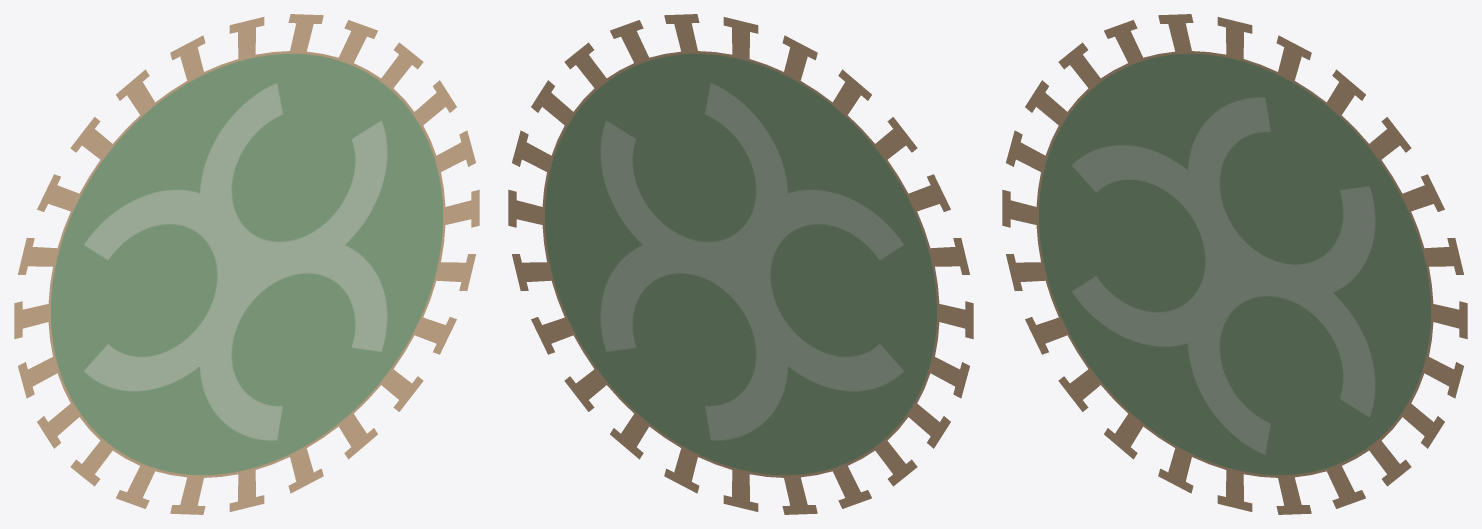
File: virus.obj
3 renders of one model, left to right at view 1: azimuth 30°, elevation 25°; view 2: azimuth 150°, elevation 25°; view 3: azimuth 330°, elevation 25°, orthographic.
Parts seen in each view (by area): view 1: Circle.001; view 2: Circle.001; view 3: Circle.001.
Boxes of the visible parts, box(x1,y1,x2,y2) form: Circle.001: box(14, 14, 479, 514); Circle.001: box(508, 14, 973, 514); Circle.001: box(1002, 14, 1467, 514).
Size of the model in its own units: 0.4987 by 0.4987 by 0.
